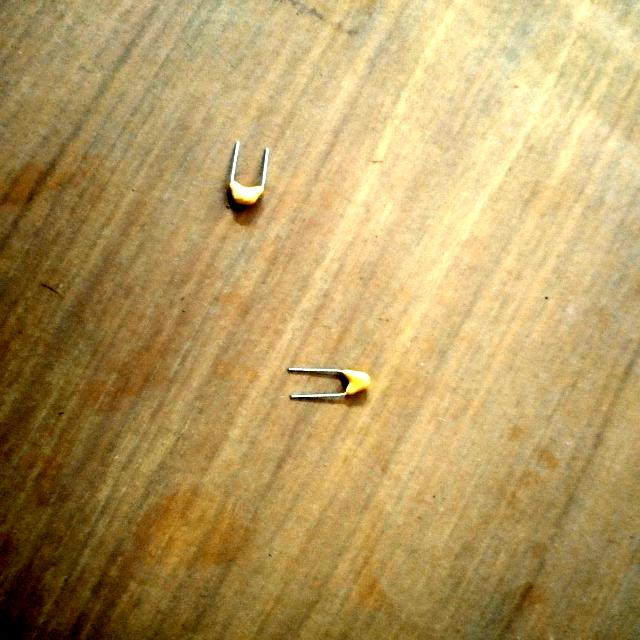capacitor: (295, 368, 370, 407), (227, 184, 261, 226)
